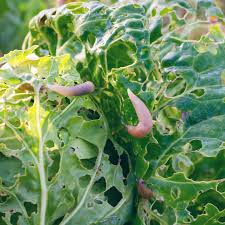slug: (126, 88, 155, 140), (48, 82, 96, 96)
